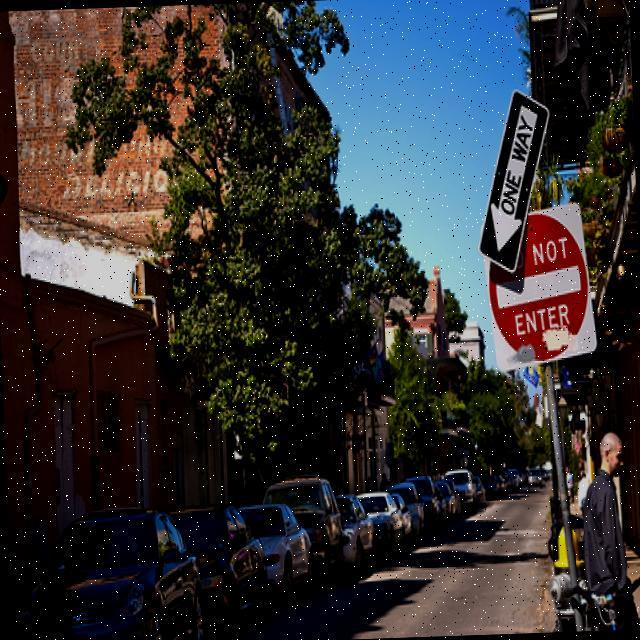fire_hydrant: (544, 525, 583, 632)
